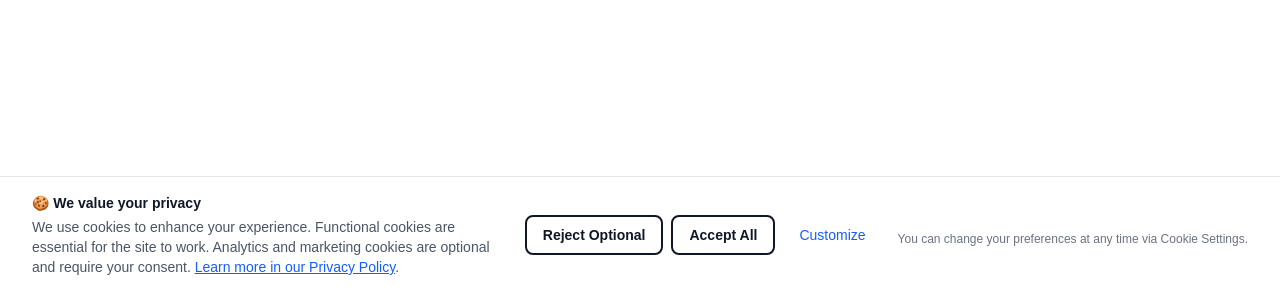
CookieConsentBanner › consent:show event re-reads preferences › should populate checkboxes with previously stored consent values
This screenshot has width=1280, height=293.
Expected: the heading "🍪 We value your privacy" is shown, [32, 195, 201, 211]
Open details to see checkboxes
Step 1. Click the button "Customize" → (832, 235), box [783, 215, 882, 255]
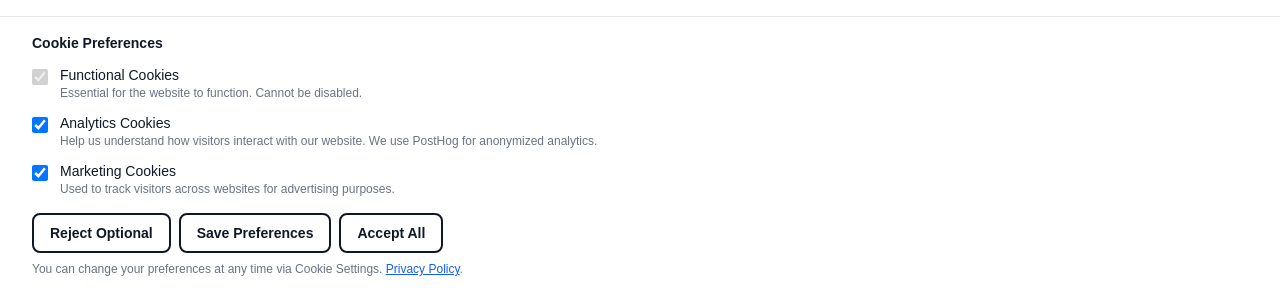
Now the 2nd checkbox is checked, box [32, 117, 48, 133]
Now the 3rd checkbox is checked, box [32, 165, 48, 181]
